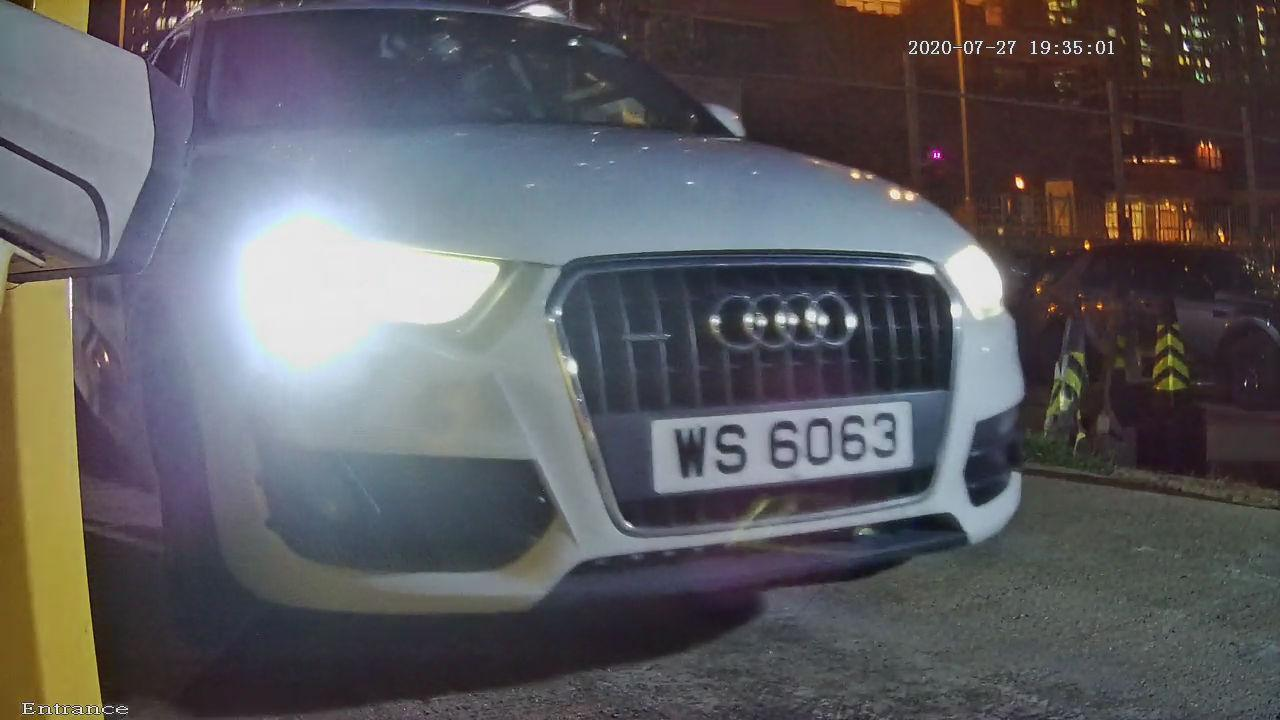privatecar: (75, 10, 1081, 663)
